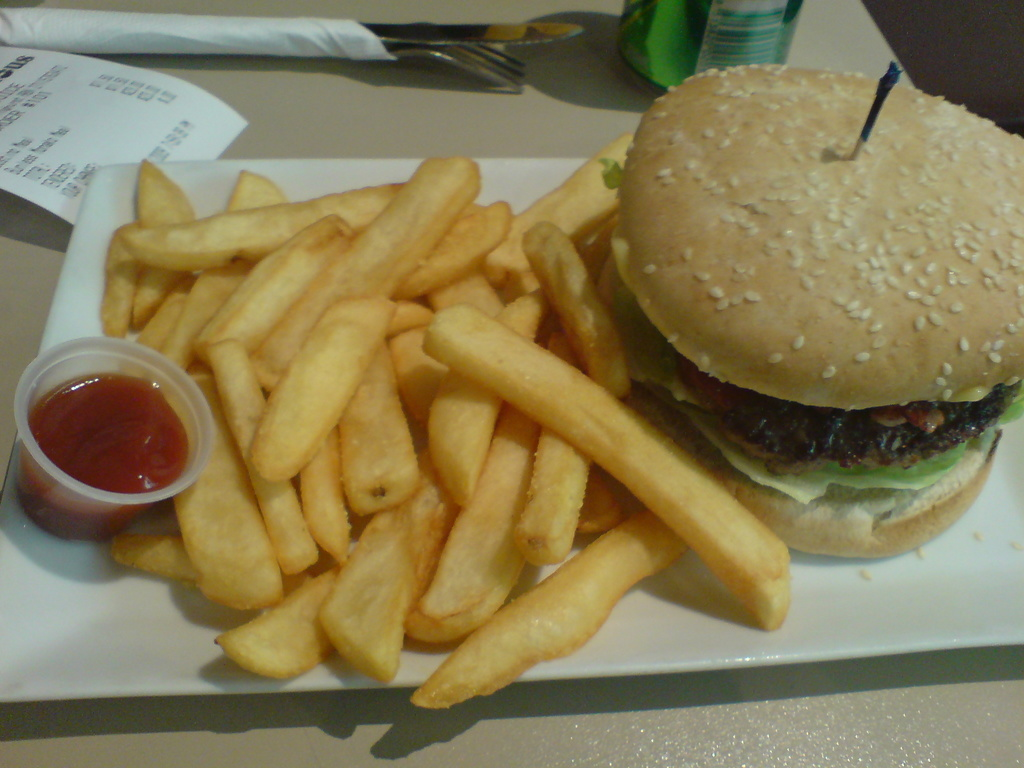French fries: (108, 126, 791, 711)
